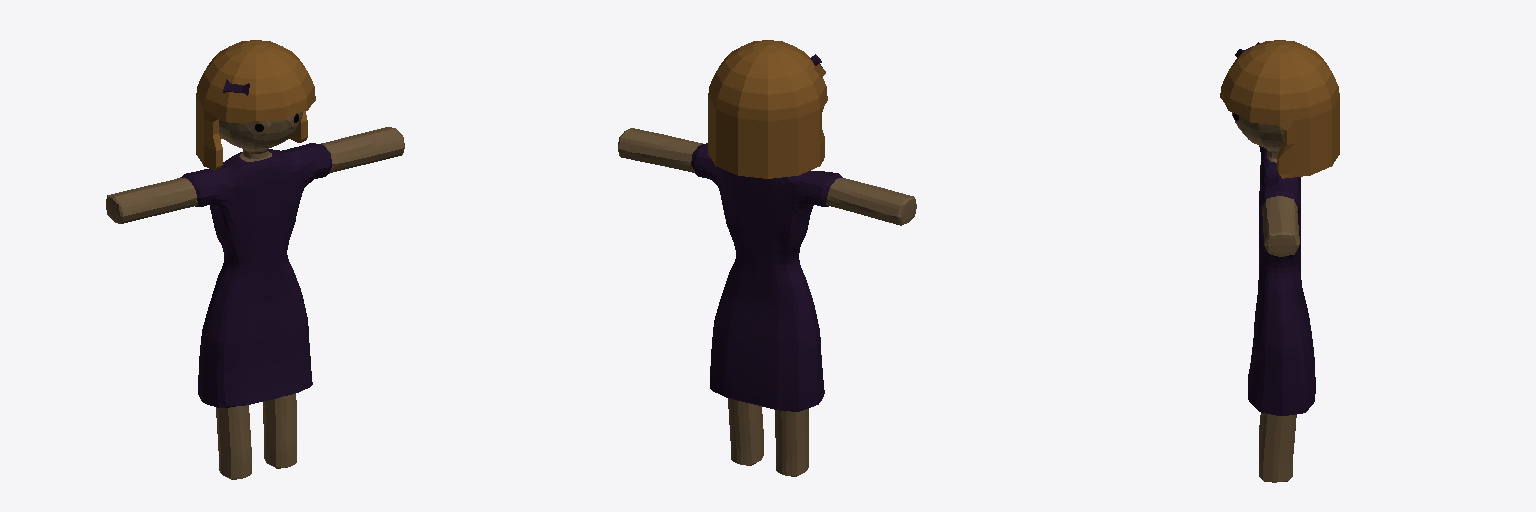
File: Girl.obj
3 views of the same model, side by side, from view 1: azimuth 30°, elevation 25°; view 2: azimuth 150°, elevation 25°; view 3: azimuth 270°, elevation 25° (orthographic).
Visible parts, largest first — view 1: character, Hair; view 2: character, Hair; view 3: character, Hair.
Boxes of the visible parts, box(x1,y1,x2,y2) form: character: box(106, 112, 404, 479); Hair: box(196, 40, 315, 170); character: box(618, 128, 916, 476); Hair: box(708, 40, 827, 178); character: box(1232, 113, 1315, 482); Hair: box(1220, 40, 1339, 178).
Bounding box in the file's own units: 7.31 × 10.32 × 2.66.